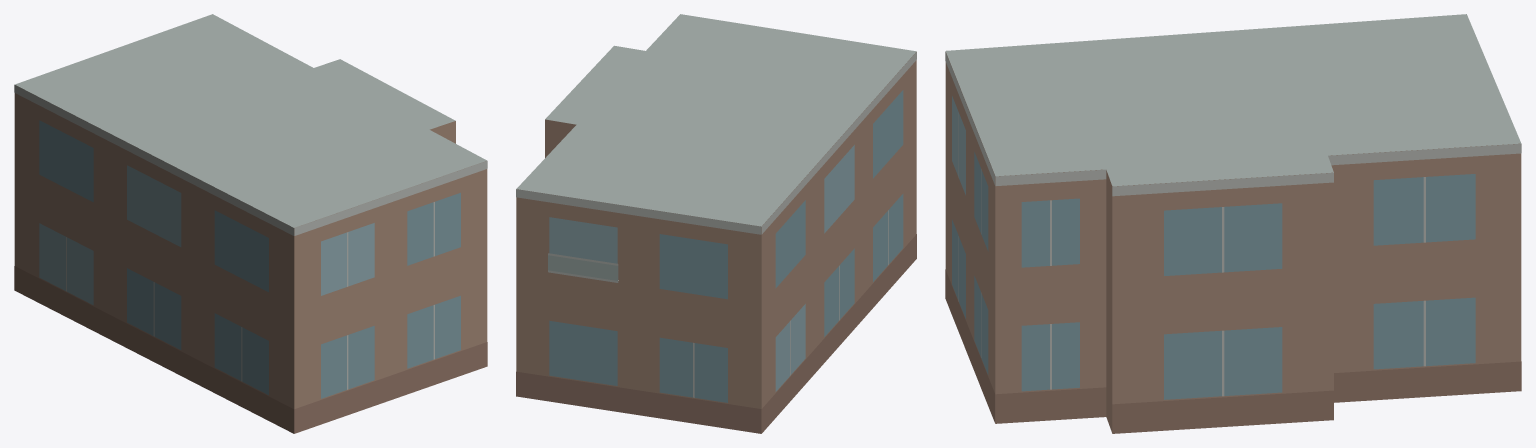
The model's file is survey-upis-32606811.glb.
3 views of the same model, side by side, from view 1: azimuth 30°, elevation 25°; view 2: azimuth 150°, elevation 25°; view 3: azimuth 270°, elevation 25° (orthographic). The views are drawn at different scales.
Visible parts, largest first — view 1: survey-upis-32606811.tmp; view 2: survey-upis-32606811.tmp; view 3: survey-upis-32606811.tmp.
Boxes of the visible parts, bbox=[...] form: survey-upis-32606811.tmp: bbox=[14, 14, 487, 433]; survey-upis-32606811.tmp: bbox=[516, 14, 916, 433]; survey-upis-32606811.tmp: bbox=[945, 14, 1521, 433].
Bounding box in the file's own units: 9.12 × 6.1 × 12.88.
